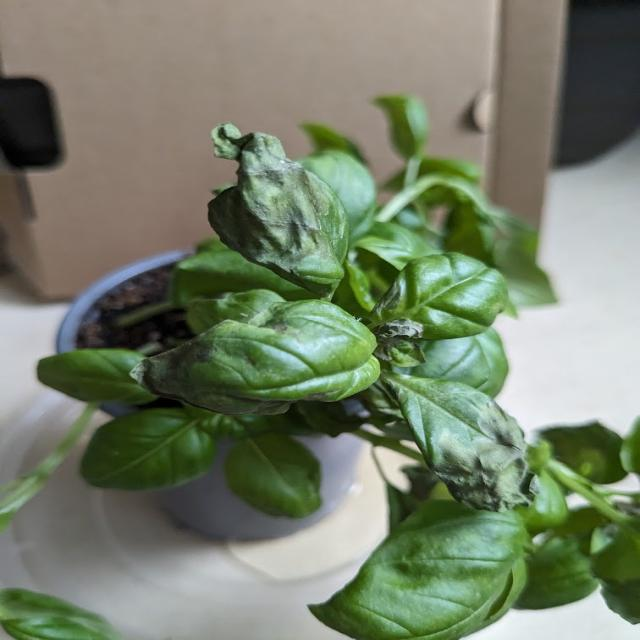dark: (196, 124, 357, 291), (400, 388, 548, 518), (119, 336, 298, 432), (372, 285, 440, 347)
healthy: (309, 511, 529, 640), (81, 411, 213, 491), (220, 436, 325, 514), (516, 535, 604, 611), (0, 589, 117, 640), (444, 260, 510, 330), (377, 95, 426, 155), (362, 230, 439, 268)
